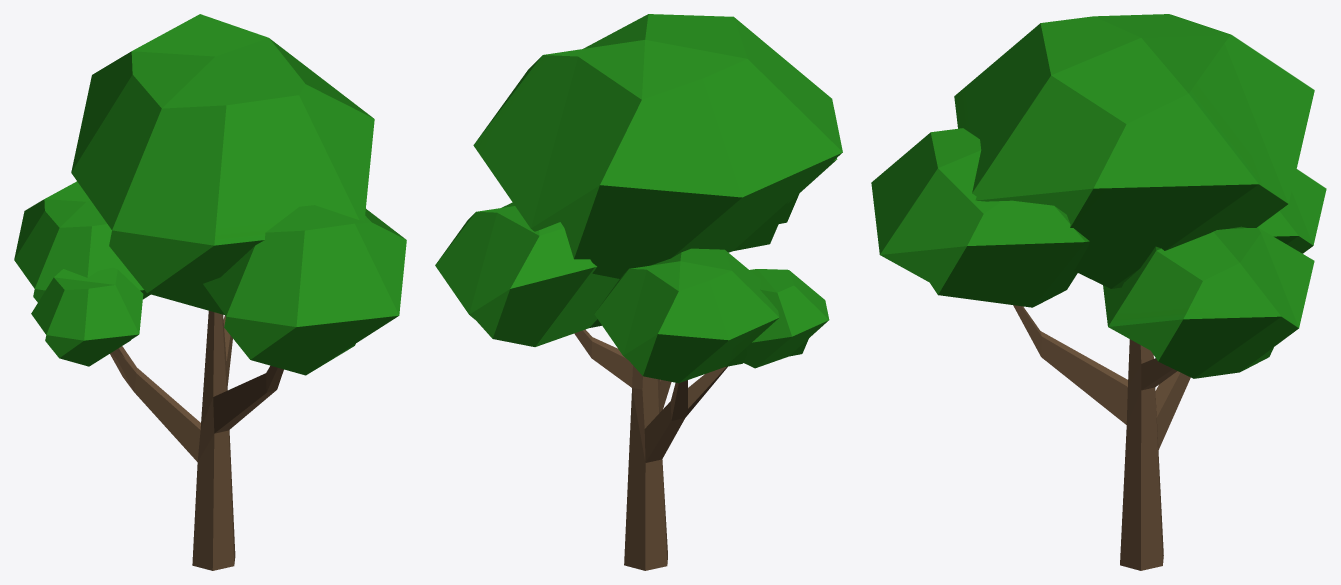
Rendered from Forest_003.fbx.
3 views of the same model, side by side, from view 1: azimuth 30°, elevation 25°; view 2: azimuth 150°, elevation 25°; view 3: azimuth 270°, elevation 25° (orthographic). The views are drawn at different scales.
Parts seen in each view (by area): view 1: Forest_003; view 2: Forest_003; view 3: Forest_003.
Boxes of the visible parts, x1=… form: Forest_003: x1=14, y1=14, x2=406, y2=570; Forest_003: x1=435, y1=14, x2=842, y2=570; Forest_003: x1=871, y1=14, x2=1326, y2=570.
Size of the model in its own units: 600 by 900 by 700.
